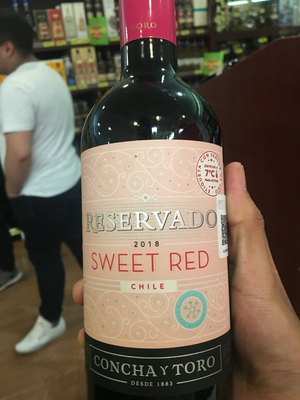reservado sweet red: (69, 12, 238, 400)
